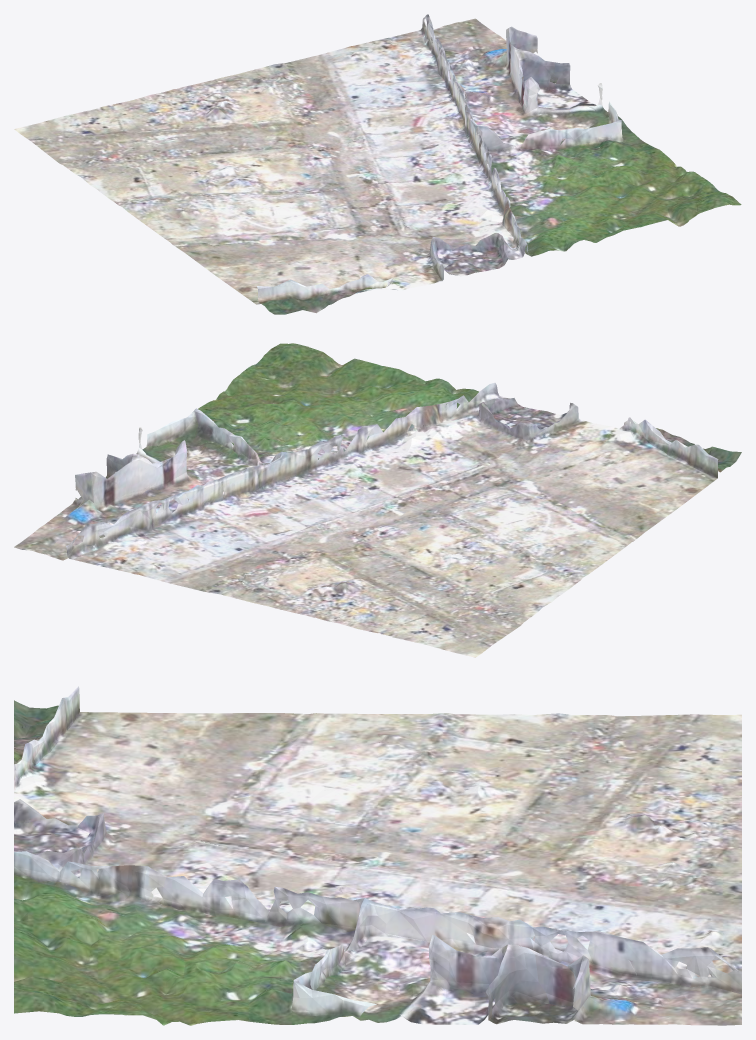
File: Tile_+001_+003_L21_0001100.glb
3 renders of one model, top to bottom at view 1: azimuth 30°, elevation 25°; view 2: azimuth 150°, elevation 25°; view 3: azimuth 270°, elevation 25°, orthographic. The views are drawn at different scales.
Visible parts, largest first — view 1: rtc; view 2: rtc; view 3: rtc.
Part boxes in pixels (x1,y1,x2,y2): rtc: (14, 14, 741, 314); rtc: (14, 343, 741, 657); rtc: (14, 686, 741, 1025).
Bounding box in the file's own units: 25.63 × 2.24 × 25.63.
Materials: 1 (1 with a texture image).
